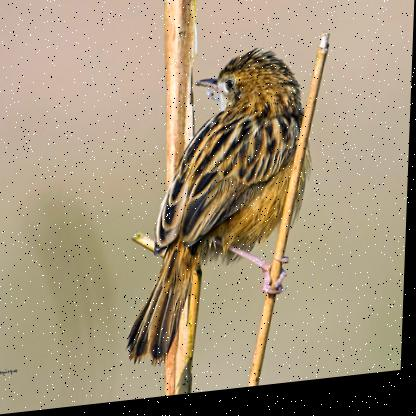Burung: (131, 53, 316, 371)
